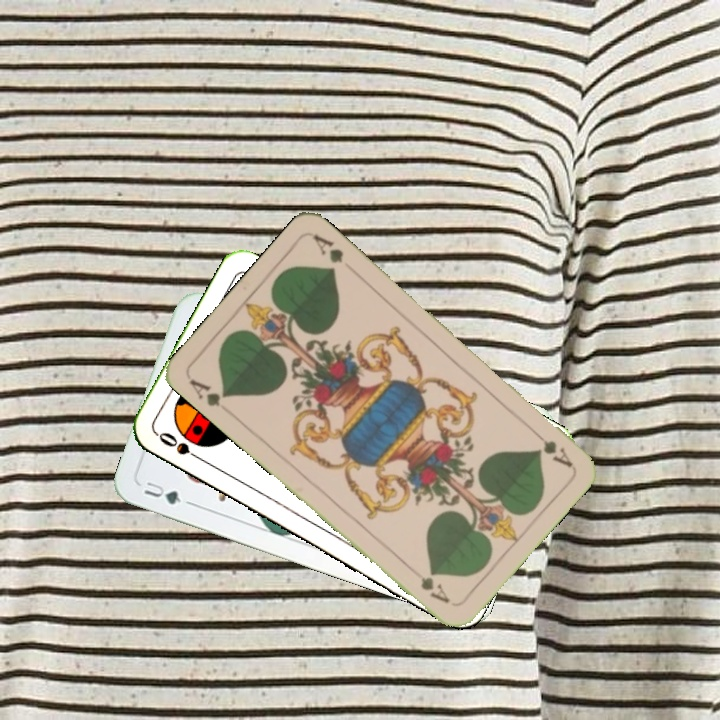GA: (527, 425, 575, 470), (185, 375, 232, 410)
GU: (140, 477, 184, 507)
SO: (153, 427, 207, 465)
